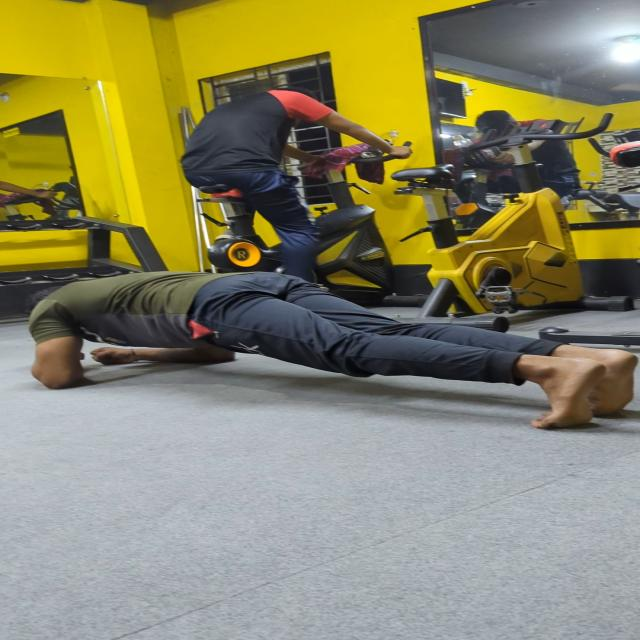Normal_Plunk: (23, 243, 640, 497)
